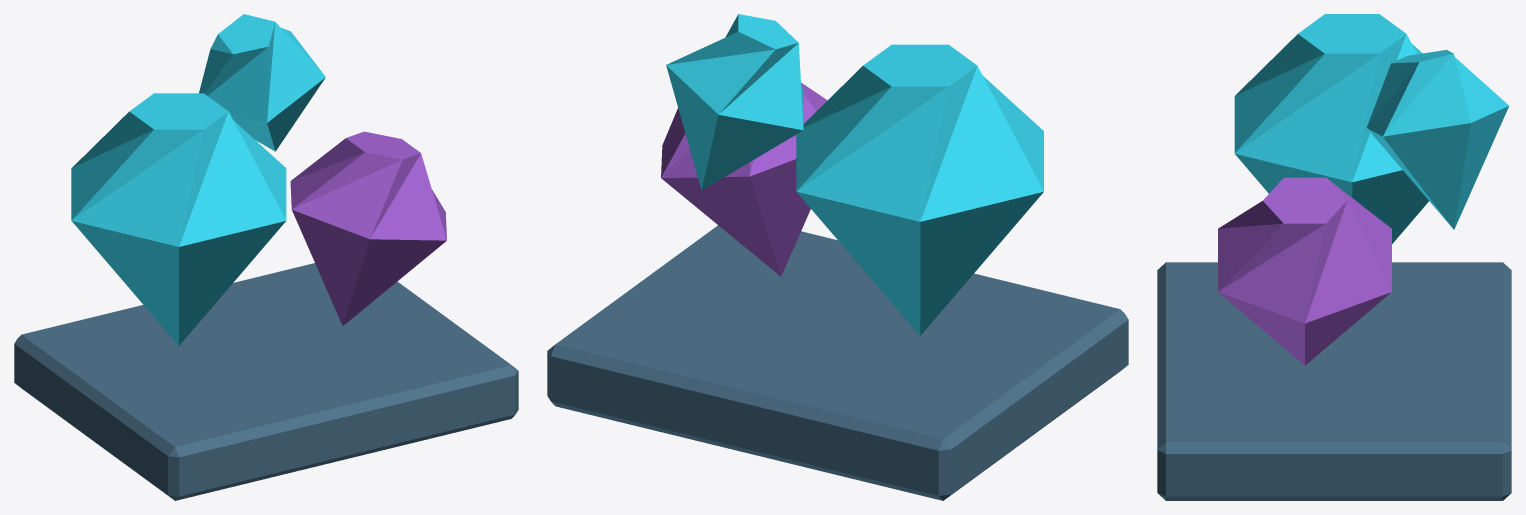
File: crystal_cluster_small.glb
3 renders of one model, left to right at view 1: azimuth 30°, elevation 25°; view 2: azimuth 150°, elevation 25°; view 3: azimuth 270°, elevation 25°, orthographic. The views are drawn at different scales.
Parts seen in each view (by area): view 1: crystal_cluster_small; view 2: crystal_cluster_small; view 3: crystal_cluster_small.
Boxes of the visible parts, x1=… form: crystal_cluster_small: x1=14, y1=14, x2=518, y2=500; crystal_cluster_small: x1=547, y1=14, x2=1128, y2=500; crystal_cluster_small: x1=1157, y1=14, x2=1511, y2=500.
Size of the model in its own units: 1.55 by 1.4 by 1.2.
